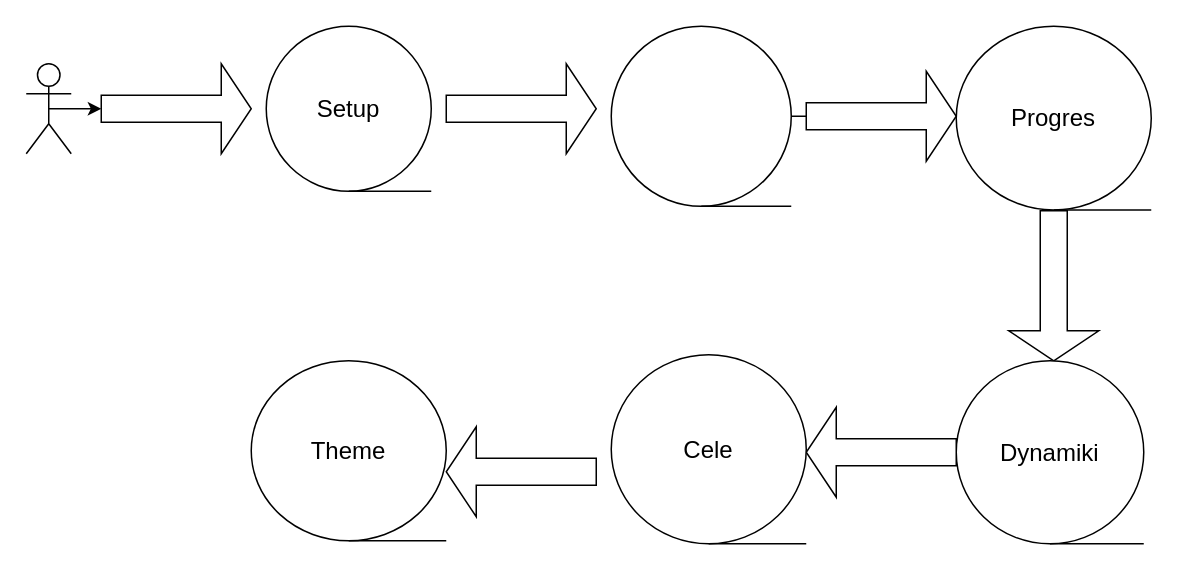
The diagram is 1178 pixels wide and 570 high, and some of its shapes have lost their labels. The shapes that lost their labels are listed below. From the top down, each one's box as (x1, y1, x2, y2) in pixels, then its label:
(25, 62, 71, 154): Actor
(610, 25, 791, 206): Warunki zwycięstwa
